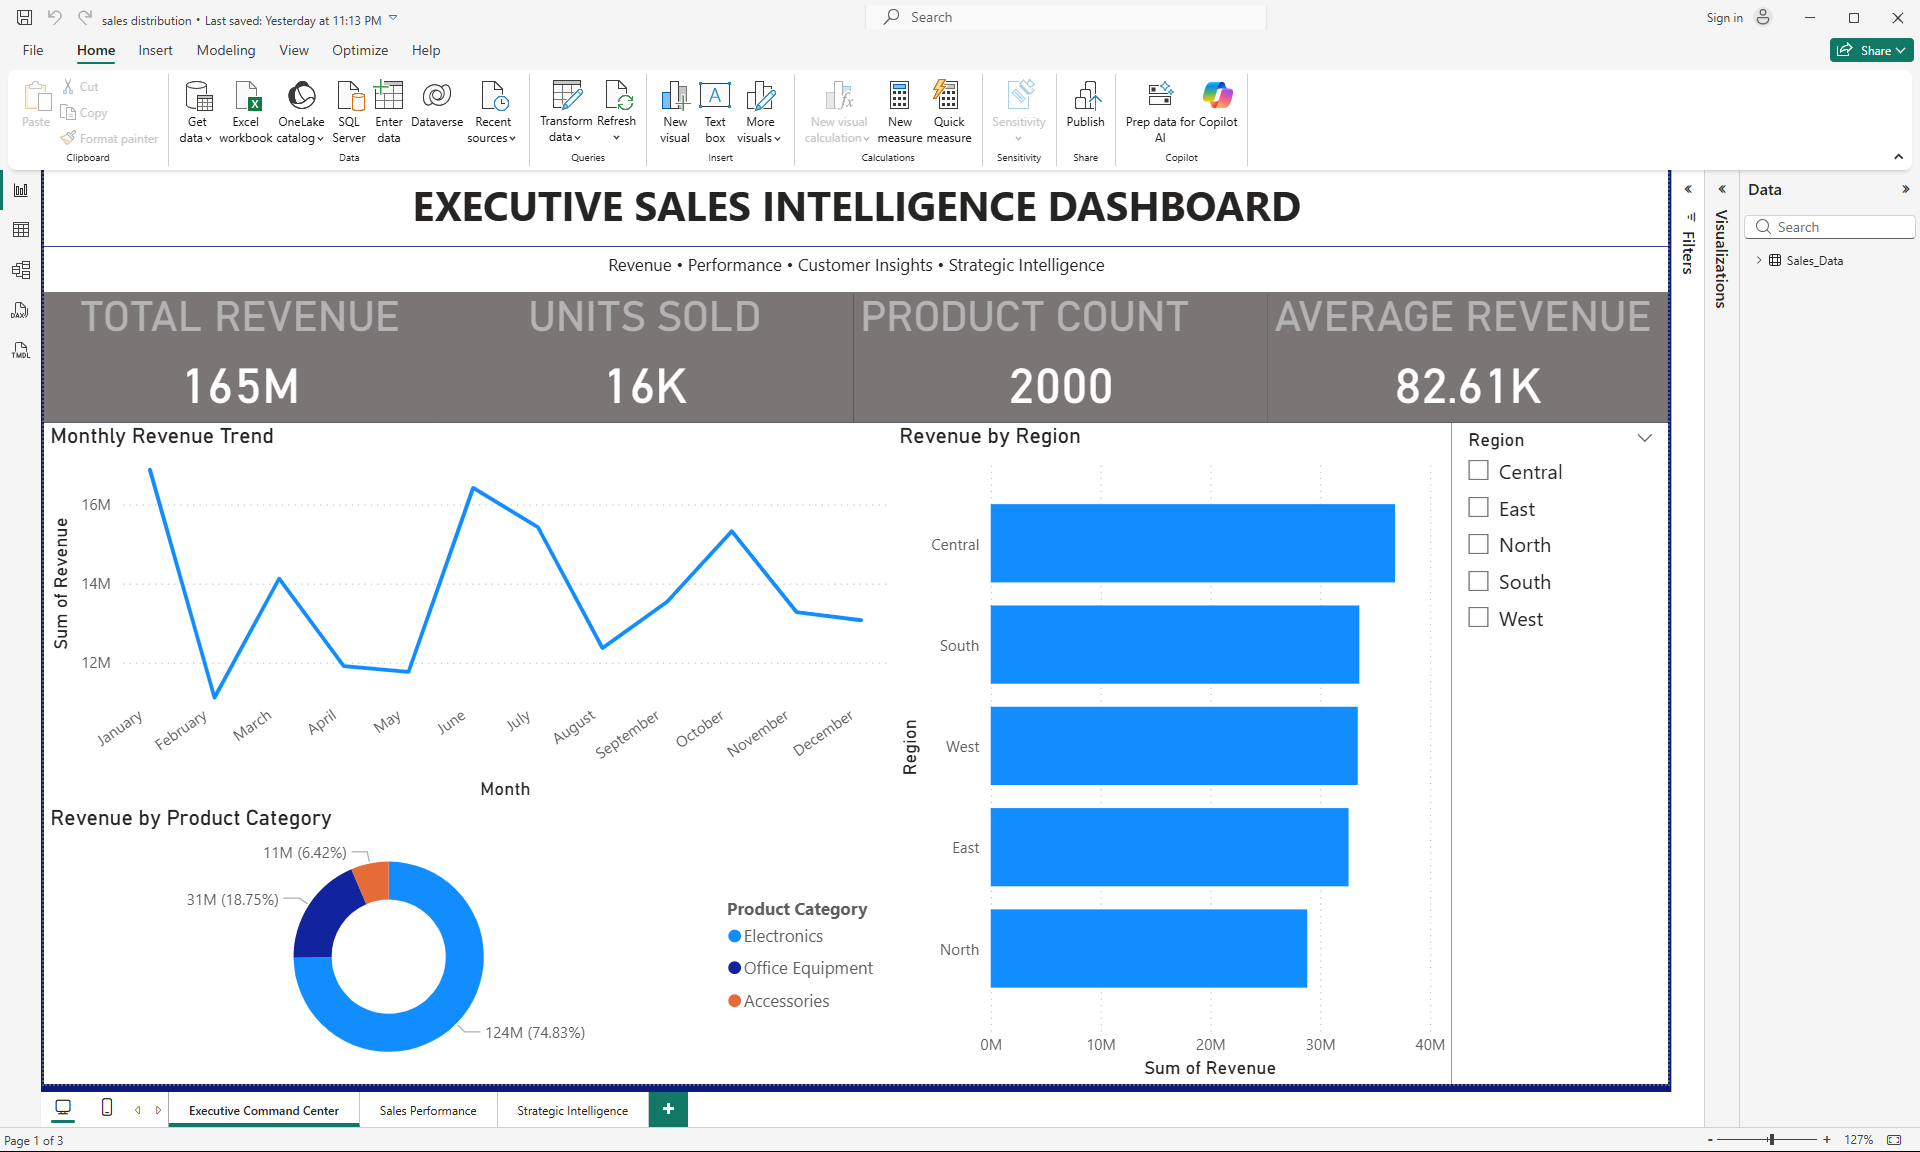

What the dashboard file says about the page in this screenshot:
{"tool":"powerbi","page":{"name":"Executive Command Center","canvas":[1280,720],"ordinal":0},"visuals":[{"type":"textbox","box":[0,0,1280,60.4],"z":0},{"type":"textbox","box":[0,60.4,1280,36.2],"z":1000},{"type":"card","title":"TOTAL REVENUE","fields":{"Values":["Sum(Sales_Data.Revenue)"]},"box":[0,96.4,309.1,102.7],"z":2000},{"type":"card","title":"UNITS SOLD","fields":{"Values":["Sum(Sales_Data.Units Sold)"]},"box":[309.1,96.4,329.1,102.7],"z":3000},{"type":"card","title":"PRODUCT COUNT","fields":{"Values":["CountNonNull(Sales_Data.Product)"]},"box":[638.2,96.4,326.4,102.7],"z":4000},{"type":"card","title":"AVERAGE REVENUE","fields":{"Values":["Avg(Sales_Data.Revenue)"]},"box":[964.5,96.4,315.5,102.7],"z":5000},{"type":"slicer","fields":{"Values":["Sales_Data.Region"]},"box":[1109.1,199.1,170.9,520.9],"z":6000},{"type":"lineChart","title":"Monthly Revenue Trend","fields":{"Category":["Sales_Data.Date.Variation.Date Hierarchy.Year","Sales_Data.Date.Variation.Date Hierarchy.Quarter","Sales_Data.Date.Variation.Date Hierarchy.Month","Sales_Data.Date.Variation.Date Hierarchy.Day"],"Y":["Sum(Sales_Data.Revenue)"]},"box":[0,199.1,669.1,300.9],"z":7000},{"type":"clusteredBarChart","title":" Revenue by Region","fields":{"Category":["Sales_Data.Region"],"Y":["Sum(Sales_Data.Revenue)"]},"box":[669.1,199.1,440,520.9],"z":8000},{"type":"donutChart","title":"Revenue by Product Category","fields":{"Y":["Sum(Sales_Data.Revenue)"],"Category":["Sales_Data.Product Category"]},"box":[0,500,669.1,220],"z":9000}]}

Visuals, with their boxes on the page's 1280x720 design canvas (x1, y1, x2, y2). These are canvas units, not pixel positions in the 1920x1152 screenshot, which may show the page scaled, cropped or inside an application window:
textbox: 0:0:1280:60
textbox: 0:60:1280:97
"TOTAL REVENUE" card: 0:96:309:199
"UNITS SOLD" card: 309:96:638:199
"PRODUCT COUNT" card: 638:96:965:199
"AVERAGE REVENUE" card: 964:96:1280:199
slicer - Sales_Data.Region: 1109:199:1280:720
"Monthly Revenue Trend" lineChart: 0:199:669:500
" Revenue by Region" clusteredBarChart: 669:199:1109:720
"Revenue by Product Category" donutChart: 0:500:669:720
